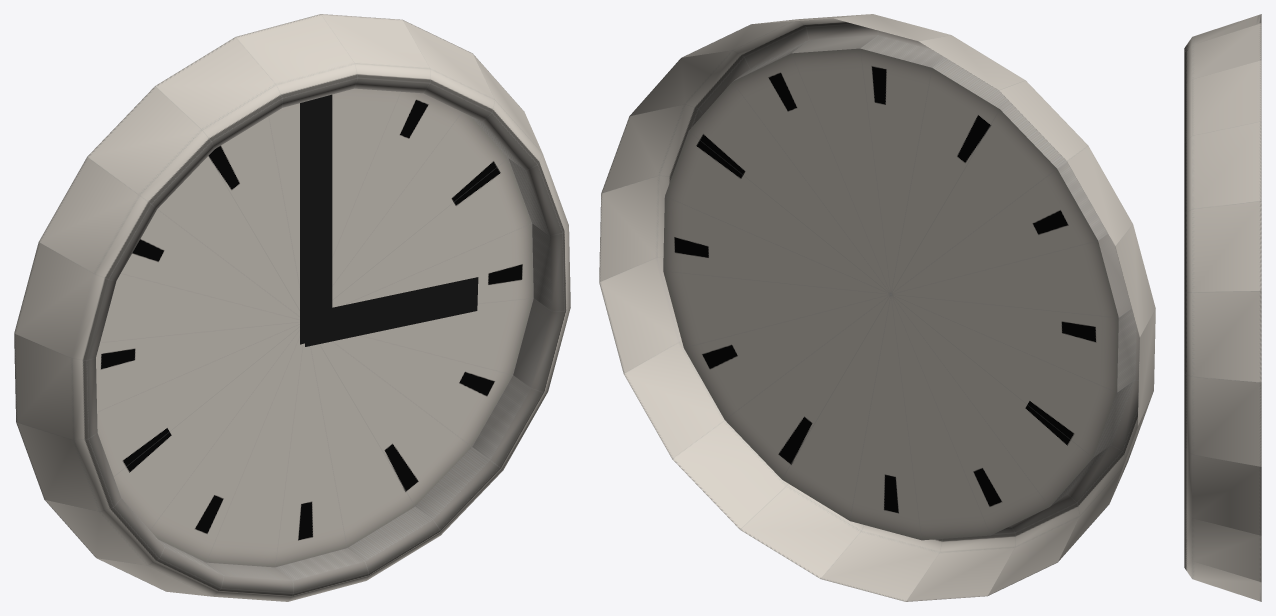
File: Clock3.fbx
3 views of the same model, side by side, from view 1: azimuth 30°, elevation 25°; view 2: azimuth 150°, elevation 25°; view 3: azimuth 270°, elevation 25° (orthographic). The views are drawn at different scales.
Parts seen in each view (by area): view 1: CLOCK, MINUUTTIVIISARI, TUNTIVIISARI; view 2: CLOCK; view 3: CLOCK.
Boxes of the visible parts, x1,y1,x2,y2 form: CLOCK: (14, 14, 570, 601); MINUUTTIVIISARI: (300, 94, 332, 344); TUNTIVIISARI: (305, 277, 478, 346); CLOCK: (599, 14, 1155, 601); CLOCK: (1184, 14, 1261, 601).
Size of the model in its own units: 0.6801 by 0.6801 by 0.0901.
2 materials, 2 textured.
